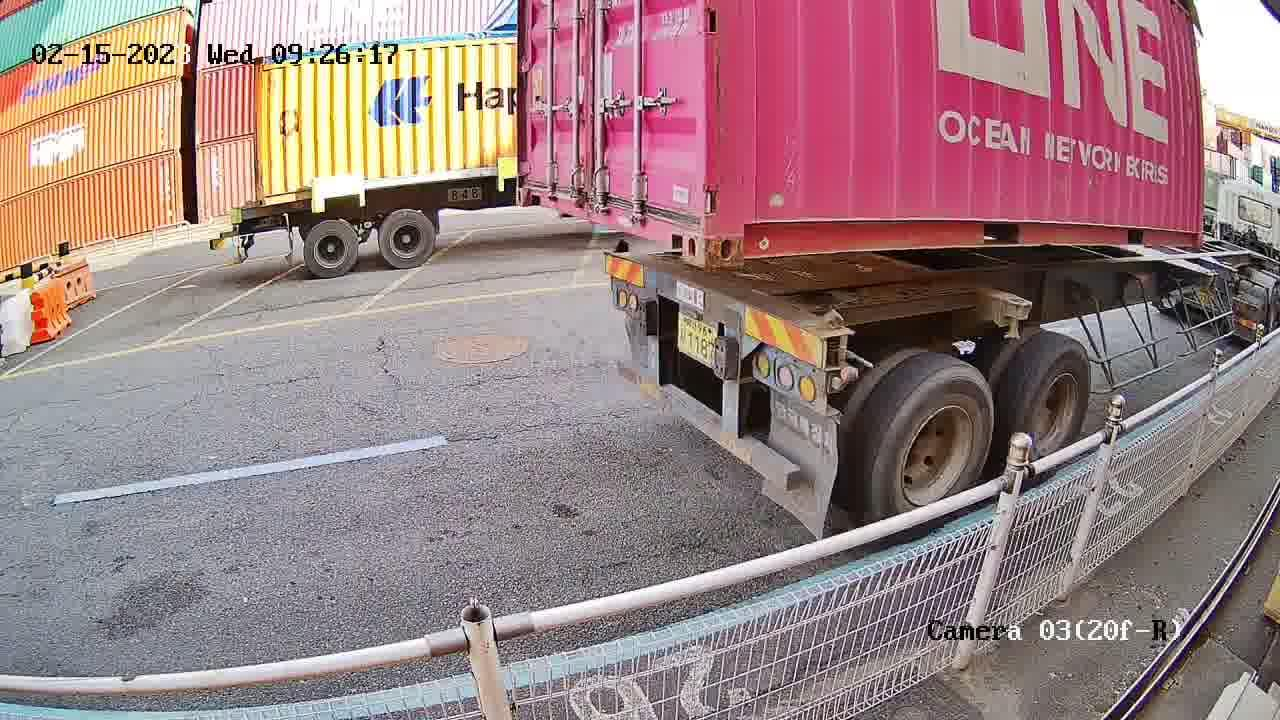Chassis: (602, 253, 837, 410)
Cone: (817, 307, 853, 370), (605, 236, 633, 265)
Hole_L: (703, 180, 788, 263), (512, 153, 550, 207)
Hole_R: (654, 172, 709, 267)
Tire: (870, 367, 993, 513), (1021, 339, 1092, 453)
